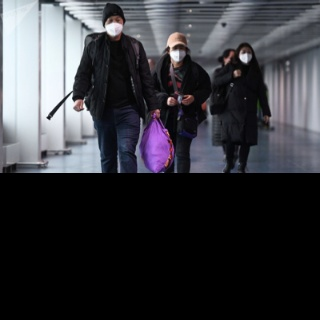with_mask: (104, 15, 124, 37), (169, 44, 185, 63), (238, 48, 252, 64)
